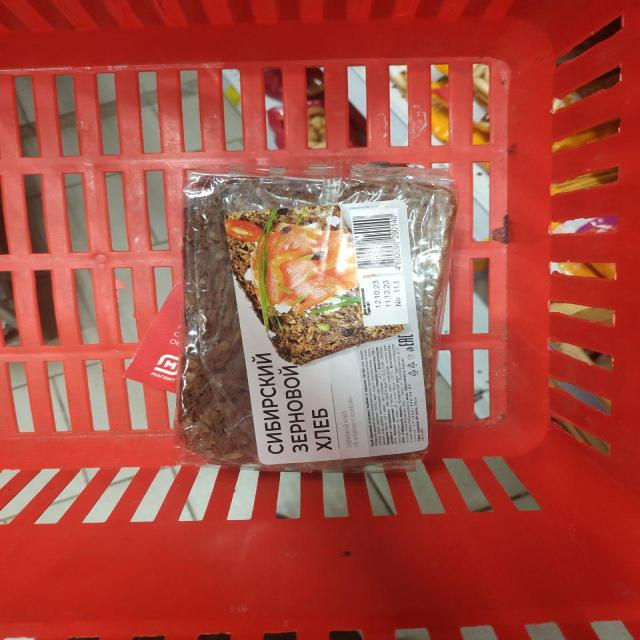Bread: (177, 161, 457, 472)
